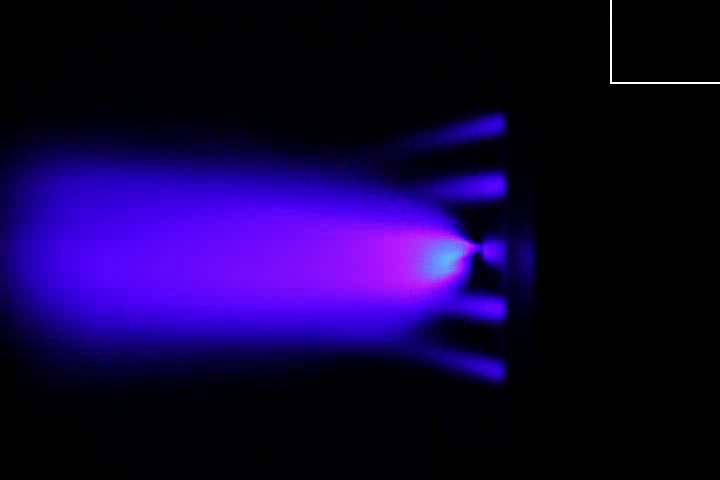burner cap: (483, 238, 509, 269)
pilot flame: (398, 103, 506, 149), (418, 338, 508, 384), (419, 172, 502, 206), (438, 294, 507, 322)
stable: (365, 214, 482, 298)
